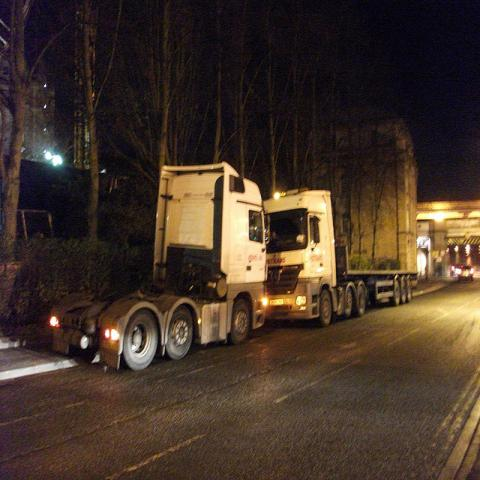car: (458, 264, 475, 282)
truck: (48, 162, 270, 370), (266, 185, 426, 322)
